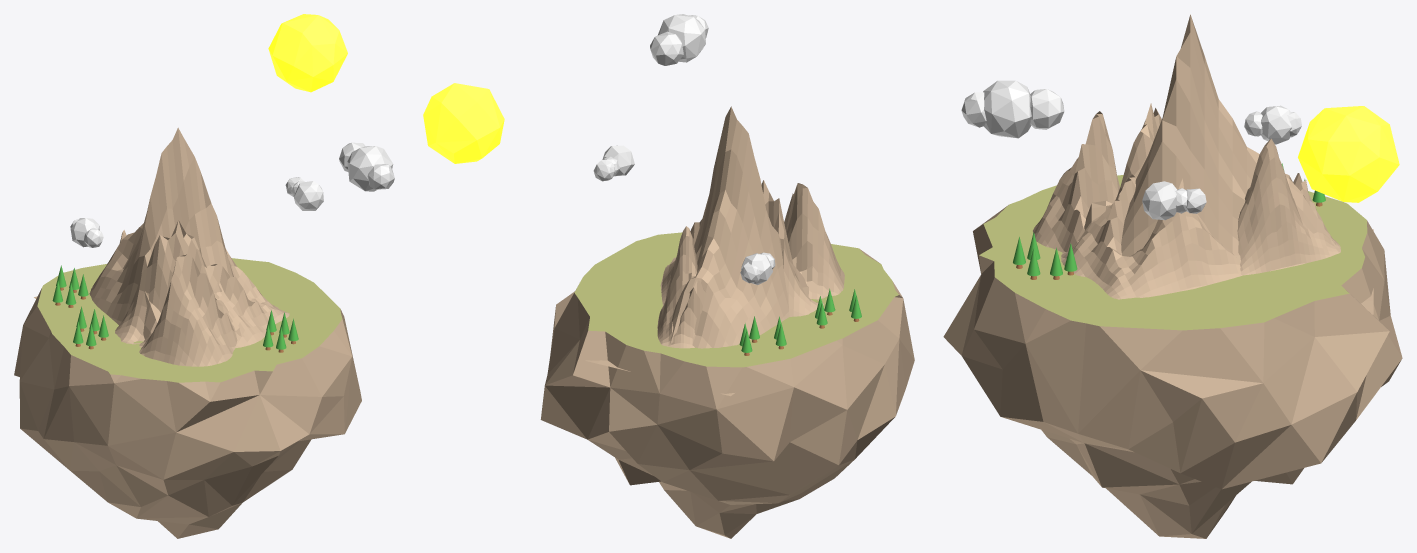
3 renders of one model, left to right at view 1: azimuth 30°, elevation 25°; view 2: azimuth 150°, elevation 25°; view 3: azimuth 270°, elevation 25°, orthographic. The views are drawn at different scales.
Parts seen in each view (by area): view 1: Sphere_2, Cube, Landscape_2, Landscape_4, moon_thingy, Landscape_3, moon_thingy_2, moon_thingy_10, moon_thingy_4, moon_thingy_7; view 2: Sphere_2, Cube, Landscape_4, Landscape_2, moon_thingy, Landscape_1, moon_thingy_2, moon_thingy_3; view 3: Sphere_2, Cube, Landscape_4, Landscape_3, Landscape_1, moon_thingy, Landscape_2, moon_thingy_2, moon_thingy_3, moon_thingy_10, moon_thingy_7, moon_thingy_4.
Part boxes in pixels (left/top/right/bottom): Sphere_2: left=14, top=288, right=361, bottom=538; Cube: left=37, top=258, right=342, bottom=382; Landscape_2: left=115, top=220, right=237, bottom=366; Landscape_4: left=34, top=127, right=244, bottom=338; moon_thingy: left=268, top=14, right=347, bottom=92; Landscape_3: left=206, top=249, right=289, bottom=347; moon_thingy_2: left=347, top=146, right=393, bottom=191; moon_thingy_10: left=294, top=181, right=323, bottom=210; moon_thingy_4: left=367, top=164, right=394, bottom=189; moon_thingy_7: left=70, top=218, right=99, bottom=247; Sphere_2: left=540, top=248, right=914, bottom=538; Cube: left=574, top=232, right=898, bottom=367; Landscape_4: left=585, top=106, right=808, bottom=396; Landscape_2: left=761, top=180, right=844, bottom=316; moon_thingy: left=423, top=83, right=504, bottom=163; Landscape_1: left=657, top=226, right=706, bottom=348; moon_thingy_2: left=658, top=14, right=705, bottom=62; moon_thingy_3: left=650, top=31, right=683, bottom=65; Sphere_2: left=943, top=205, right=1402, bottom=538; Cube: left=979, top=175, right=1367, bottom=330; Landscape_4: left=1072, top=14, right=1373, bottom=314; Landscape_3: left=1061, top=174, right=1242, bottom=299; Landscape_1: left=1237, top=138, right=1340, bottom=275; moon_thingy: left=1298, top=106, right=1399, bottom=202; Landscape_2: left=1033, top=103, right=1161, bottom=252; moon_thingy_2: left=983, top=80, right=1031, bottom=138; moon_thingy_3: left=1030, top=89, right=1064, bottom=129; moon_thingy_10: left=1142, top=181, right=1176, bottom=220; moon_thingy_7: left=1261, top=105, right=1291, bottom=144; moon_thingy_4: left=961, top=92, right=986, bottom=127.
Size of the model in its own units: 605 by 667 by 511.
